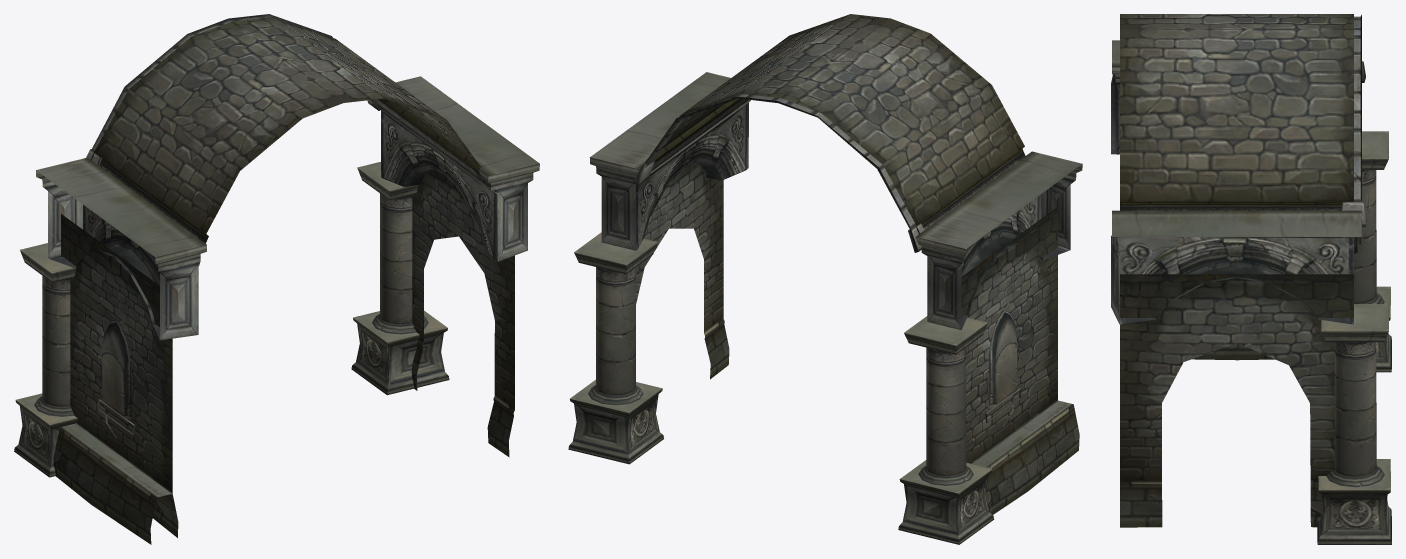
The model's file is DN_1_4_ldao03_a.FBX.
3 renders of one model, left to right at view 1: azimuth 30°, elevation 25°; view 2: azimuth 150°, elevation 25°; view 3: azimuth 270°, elevation 25°, orthographic. The views are drawn at different scales.
Parts seen in each view (by area): view 1: Object001, DN_1_4_ldao03_a, Object006; view 2: Object001, DN_1_4_ldao03_a, Object006; view 3: DN_1_4_ldao03_a, Object006, Object001.
Boxes of the visible parts, x1,y1,x2,y2 form: Object001: [20, 19, 342, 493]; DN_1_4_ldao03_a: [14, 14, 539, 544]; Object006: [351, 162, 449, 395]; Object001: [778, 18, 1082, 485]; DN_1_4_ldao03_a: [589, 14, 1079, 544]; Object006: [568, 232, 663, 464]; DN_1_4_ldao03_a: [1111, 29, 1391, 527]; Object006: [1317, 304, 1391, 544]; Object001: [1111, 14, 1388, 303].
Bounding box in the file's own units: 938 × 884 × 544.
